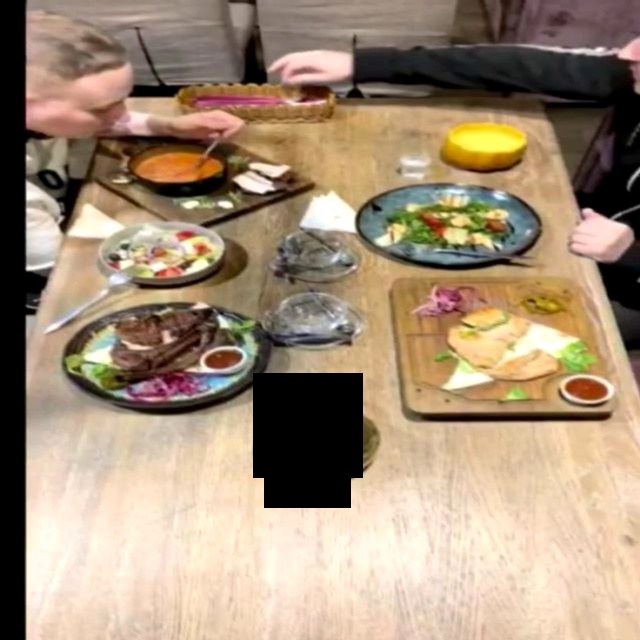meat: (390, 275, 616, 420), (60, 301, 273, 408)
salad: (359, 182, 545, 265), (96, 220, 227, 285)
soup: (91, 133, 319, 226), (440, 121, 527, 169)
tea: (228, 373, 395, 506)
